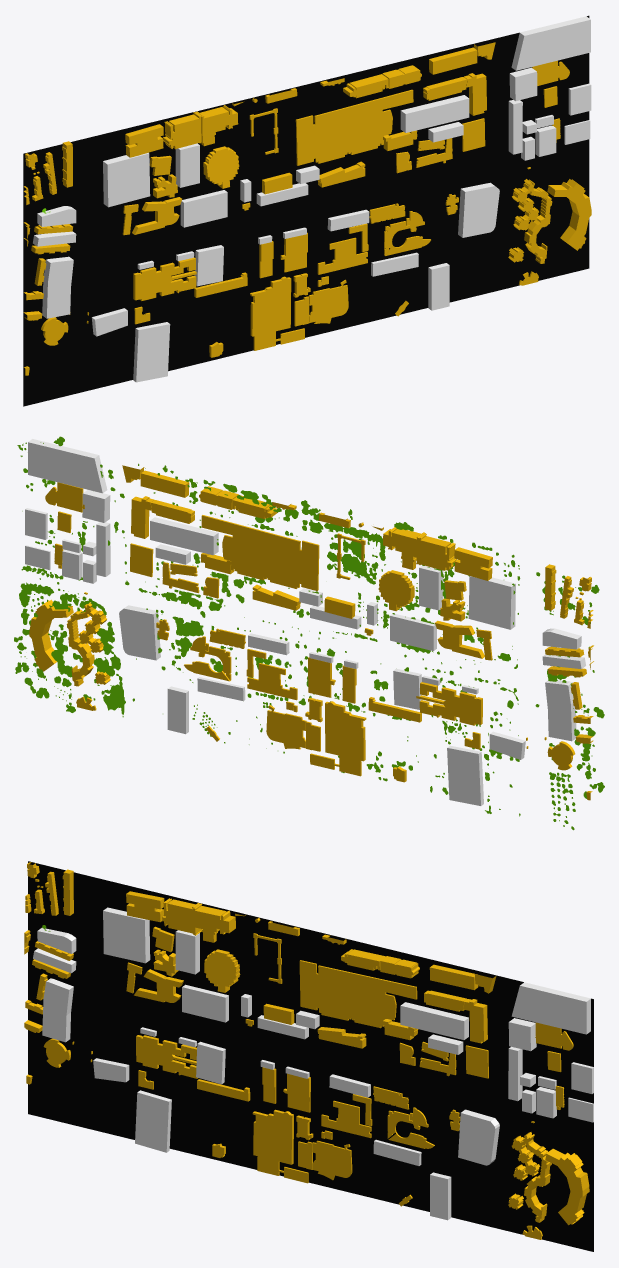
File: new_low_buildings_07.glb
The picture shows the model from 3 angles, top to bottom: view 1: azimuth 30°, elevation 25°; view 2: azimuth 150°, elevation 25°; view 3: azimuth 330°, elevation 25°; orthographic projection.
Visible parts, largest first — view 1: Layer 04, existing_building - Copy, new buildings; view 2: existing_building - Copy, new buildings, treesurface; view 3: Layer 04, existing_building - Copy, new buildings.
Part boxes in pixels (x1,y1,x2,y2): Layer 04: [23, 15, 589, 406]; existing_building - Copy: [23, 42, 591, 375]; new buildings: [33, 16, 591, 382]; existing_building - Copy: [29, 465, 593, 800]; new buildings: [25, 439, 585, 805]; treesurface: [14, 436, 604, 830]; Layer 04: [28, 861, 593, 1251]; existing_building - Copy: [24, 862, 589, 1239]; new buildings: [33, 907, 593, 1220].
Bounding box in the file's own units: 1035 × 458 × 20.85.
